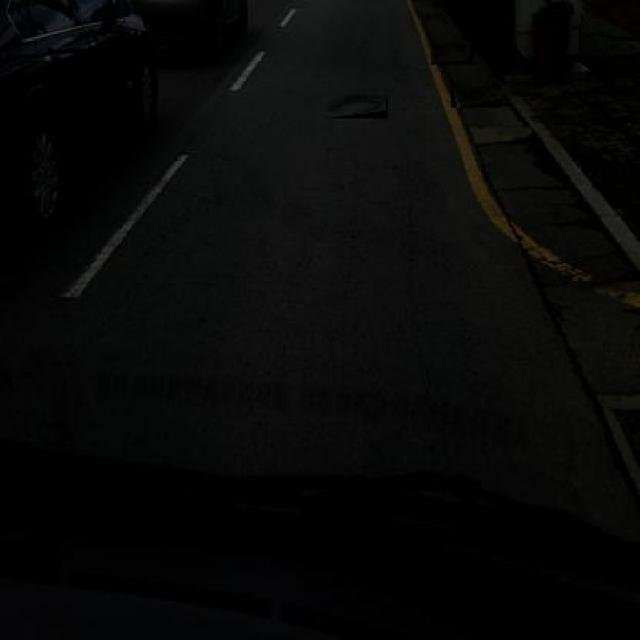Manhole: (328, 95, 388, 118), (451, 84, 504, 108), (431, 43, 474, 65)
Pothole: (532, 293, 583, 331)
